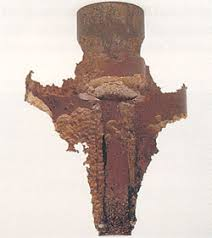rust: (73, 7, 152, 234), (18, 78, 198, 130)
